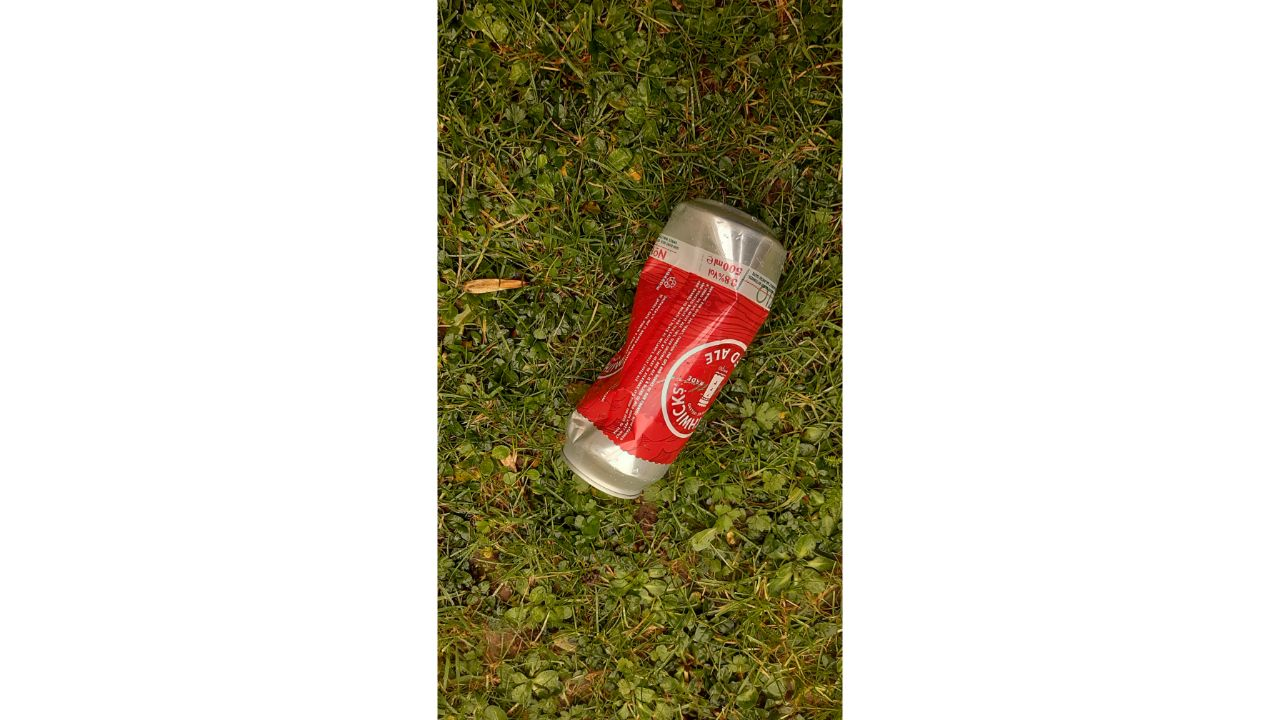Can: (559, 193, 791, 505)
